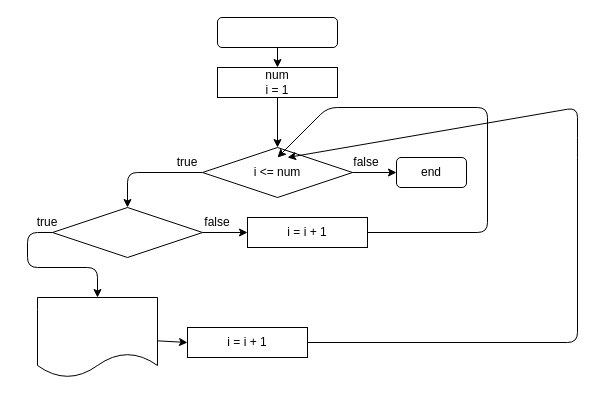
Image size: 603x395. Some labels were removed from this diagram. The box of each missing label's shape, as (x1, y1, x2, y2) in pixels:
i%2==0: (52, 206, 202, 258)
start: (216, 16, 338, 48)
вывод i: (36, 296, 158, 378)
